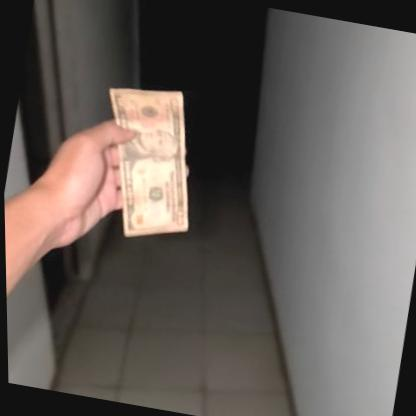ten-front: (81, 75, 208, 247)
